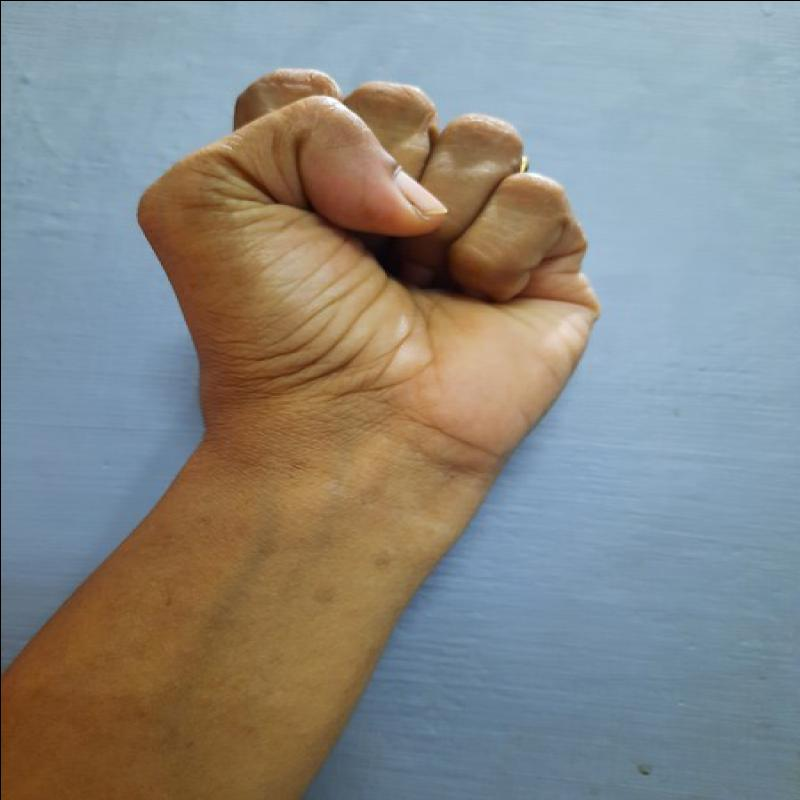Mushti: (132, 54, 612, 512)
